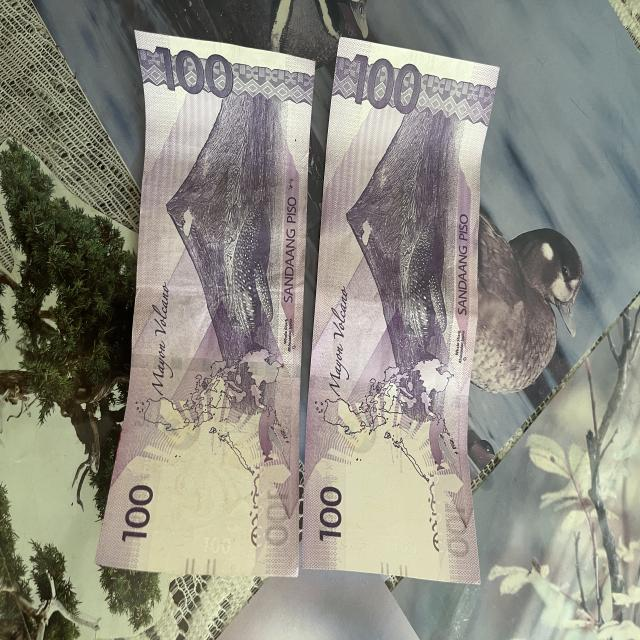100_whale: (219, 185, 282, 375), (401, 208, 457, 406)
100_whale_watermark: (254, 390, 290, 467), (425, 406, 455, 471)
value_watermark: (197, 520, 237, 566)
watermark: (135, 425, 271, 562), (329, 437, 454, 570)
